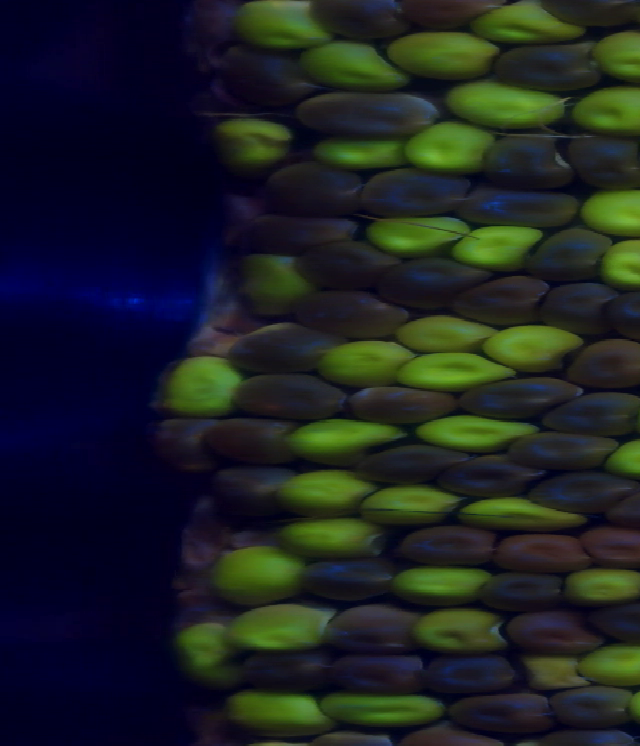fluorescent: (415, 411, 544, 461), (277, 417, 414, 463), (223, 1, 354, 48), (454, 80, 577, 129), (458, 497, 594, 537), (316, 690, 448, 731), (299, 44, 412, 91), (210, 551, 308, 605), (415, 607, 515, 657), (354, 482, 465, 527), (209, 119, 305, 171), (402, 122, 498, 173), (391, 32, 499, 77), (154, 357, 244, 411), (468, 7, 589, 46), (224, 607, 330, 649), (311, 347, 421, 387), (227, 690, 331, 732), (180, 622, 247, 687), (395, 351, 515, 387), (365, 218, 472, 258), (284, 517, 395, 555), (235, 256, 308, 313), (270, 475, 374, 515), (402, 314, 493, 356), (453, 224, 541, 267), (390, 567, 496, 602), (323, 133, 409, 173), (494, 327, 575, 366), (563, 567, 640, 607), (571, 90, 640, 134), (587, 189, 640, 236), (595, 30, 640, 73), (589, 648, 640, 683), (606, 238, 640, 288), (607, 440, 640, 489)
nonfluorescent: (296, 88, 439, 141), (230, 363, 352, 423), (261, 162, 379, 217), (295, 287, 404, 339), (446, 691, 559, 739), (388, 260, 487, 313), (460, 183, 584, 225), (231, 209, 355, 251), (324, 602, 424, 653), (463, 369, 570, 416), (218, 55, 322, 103), (233, 324, 340, 370), (508, 425, 618, 469), (400, 520, 498, 568), (494, 44, 602, 87), (343, 385, 462, 424), (327, 648, 427, 694), (307, 240, 397, 291), (483, 138, 575, 187), (211, 462, 291, 518), (366, 170, 471, 212), (239, 651, 329, 698), (539, 389, 640, 430), (419, 651, 522, 691), (362, 441, 455, 485), (317, 1, 421, 40), (480, 570, 571, 613), (490, 530, 589, 569), (308, 554, 396, 597), (570, 338, 640, 392), (531, 233, 613, 279), (570, 135, 640, 186), (216, 417, 294, 461), (532, 475, 630, 510), (509, 614, 598, 652), (539, 290, 619, 331), (150, 421, 224, 465), (463, 279, 545, 318), (551, 688, 635, 726), (454, 459, 532, 496), (581, 522, 640, 569), (541, 1, 640, 28), (403, 1, 509, 26), (585, 606, 640, 640), (610, 488, 640, 522)
